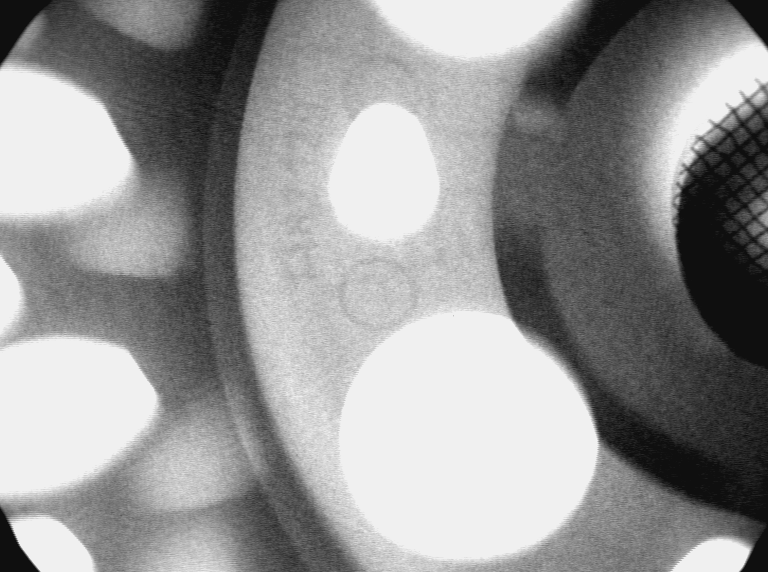defect: (509, 91, 574, 145)
